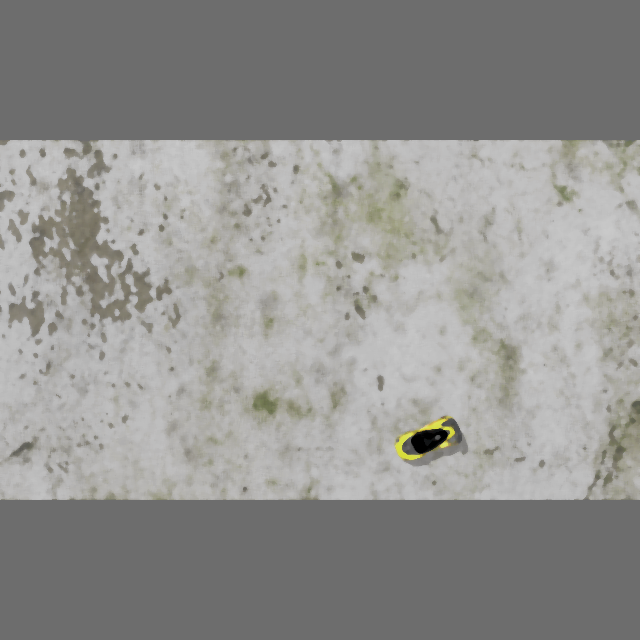car: (389, 412, 465, 468)
